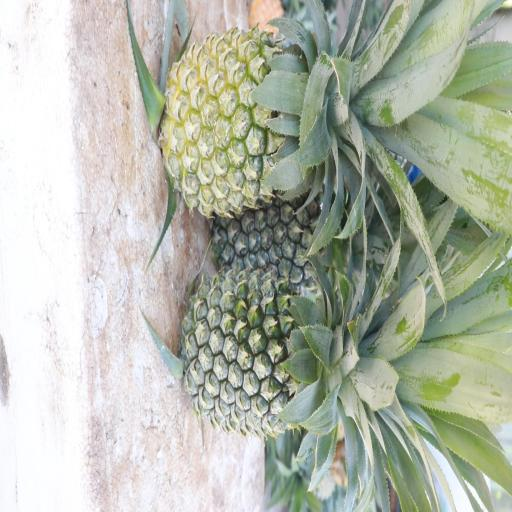Pineapple - v8 v1: (163, 30, 336, 211)
